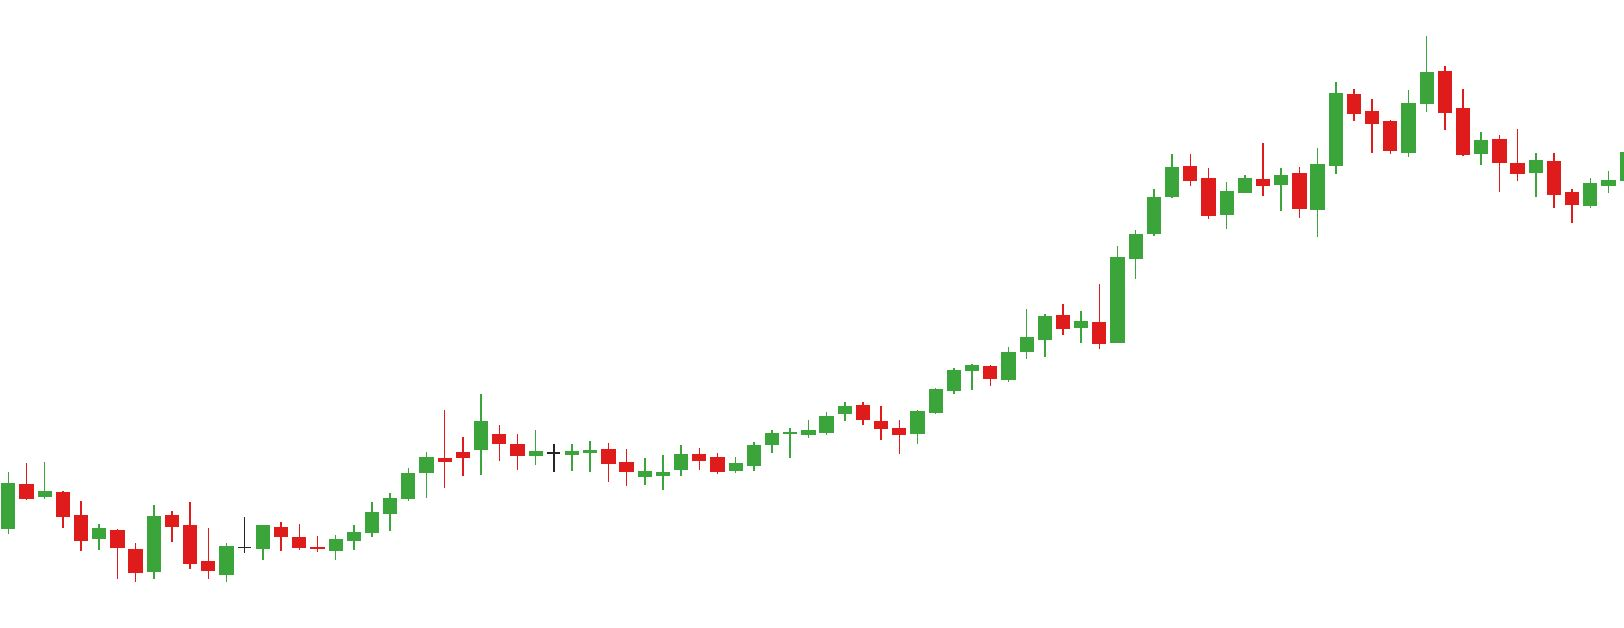sell: (1326, 34, 1454, 147)
